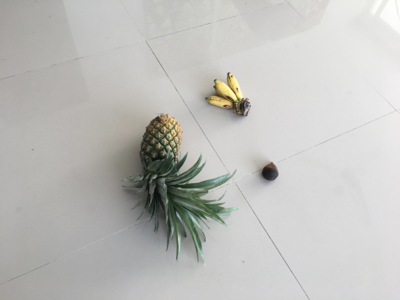banana: (205, 72, 251, 118)
pineapple: (120, 113, 237, 264)
snake fruit: (261, 162, 279, 181)
